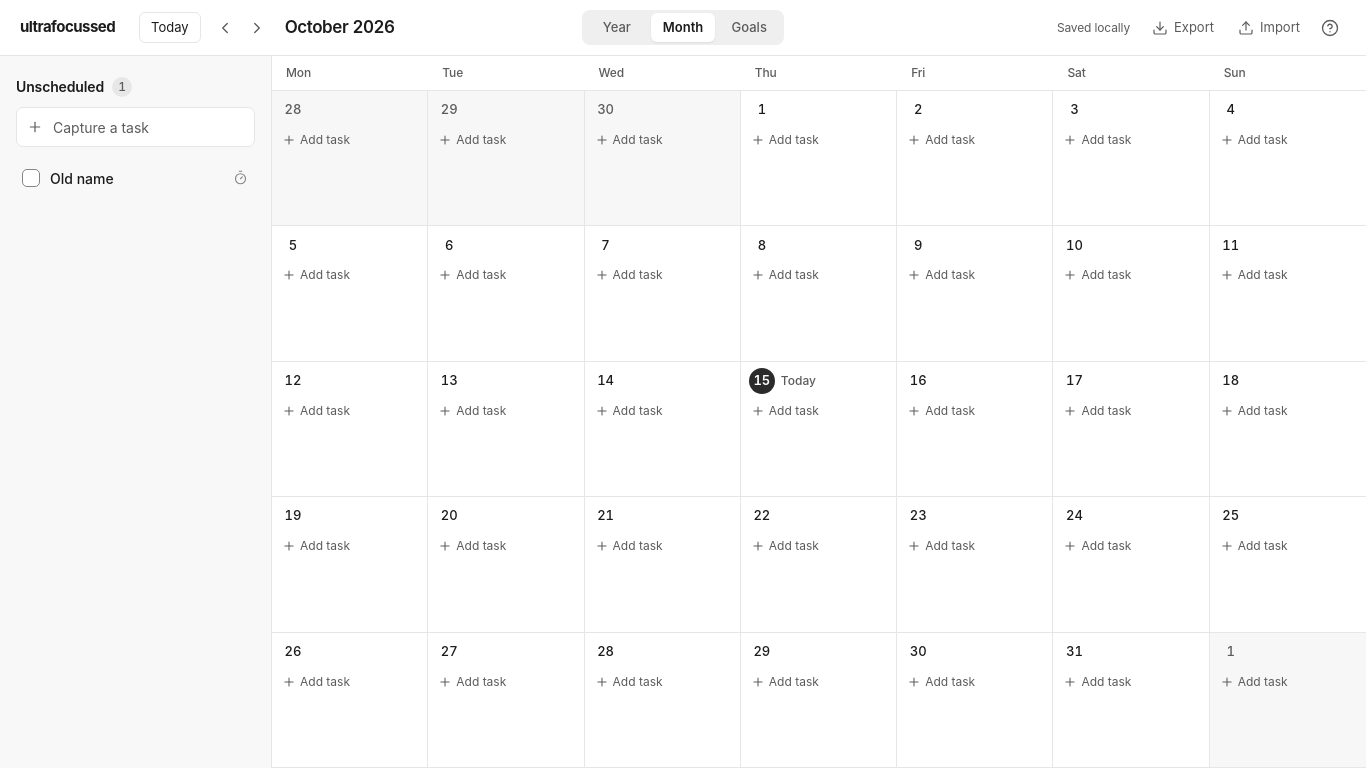
Scenario: focus from the board › saves pending detail edits when starting focus from task details
Click the button "Old name" at [134, 178], box x1=50 y1=168 x2=217 y2=189
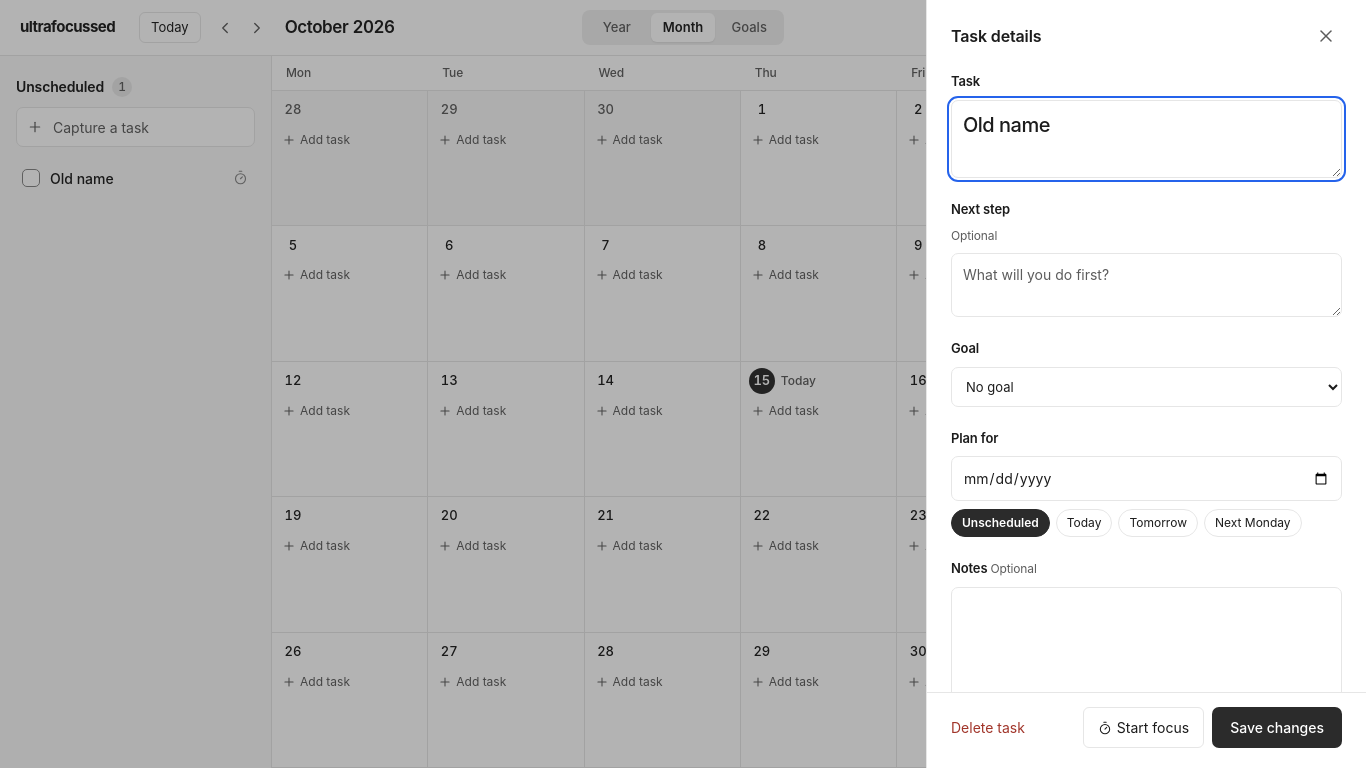
Replace the text in the text box labelled "Task" with "New name" at [1146, 138], box x1=951 y1=100 x2=1342 y2=178
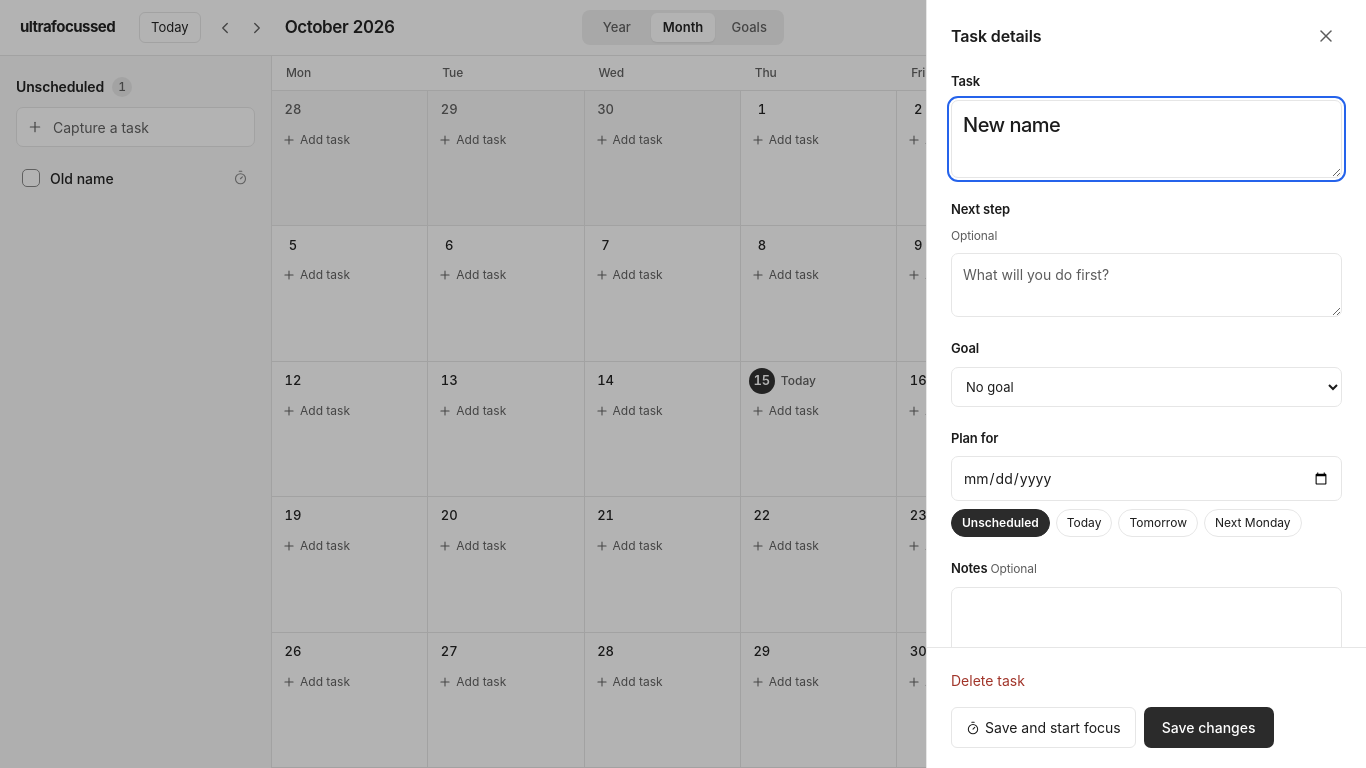
Click the button "Save and start focus" at [1043, 728], box x1=951 y1=707 x2=1136 y2=748
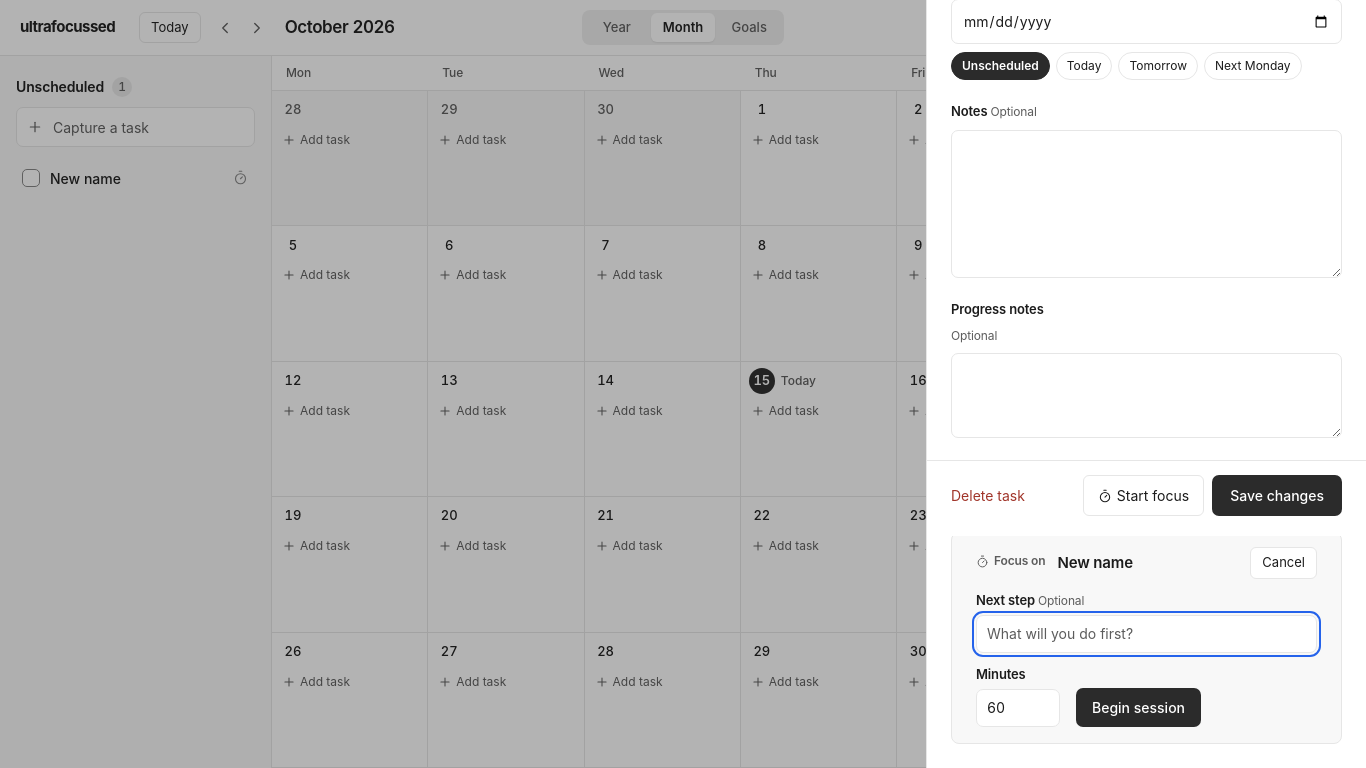
Expected: the dialog is shown, x1=926 y1=0 x2=1365 y2=767
Expected: the button named "Old name" reads "New name", x1=50 y1=168 x2=217 y2=189
Expected: the element named "Focus session" shows "New name", x1=1058 y1=552 x2=1133 y2=572
